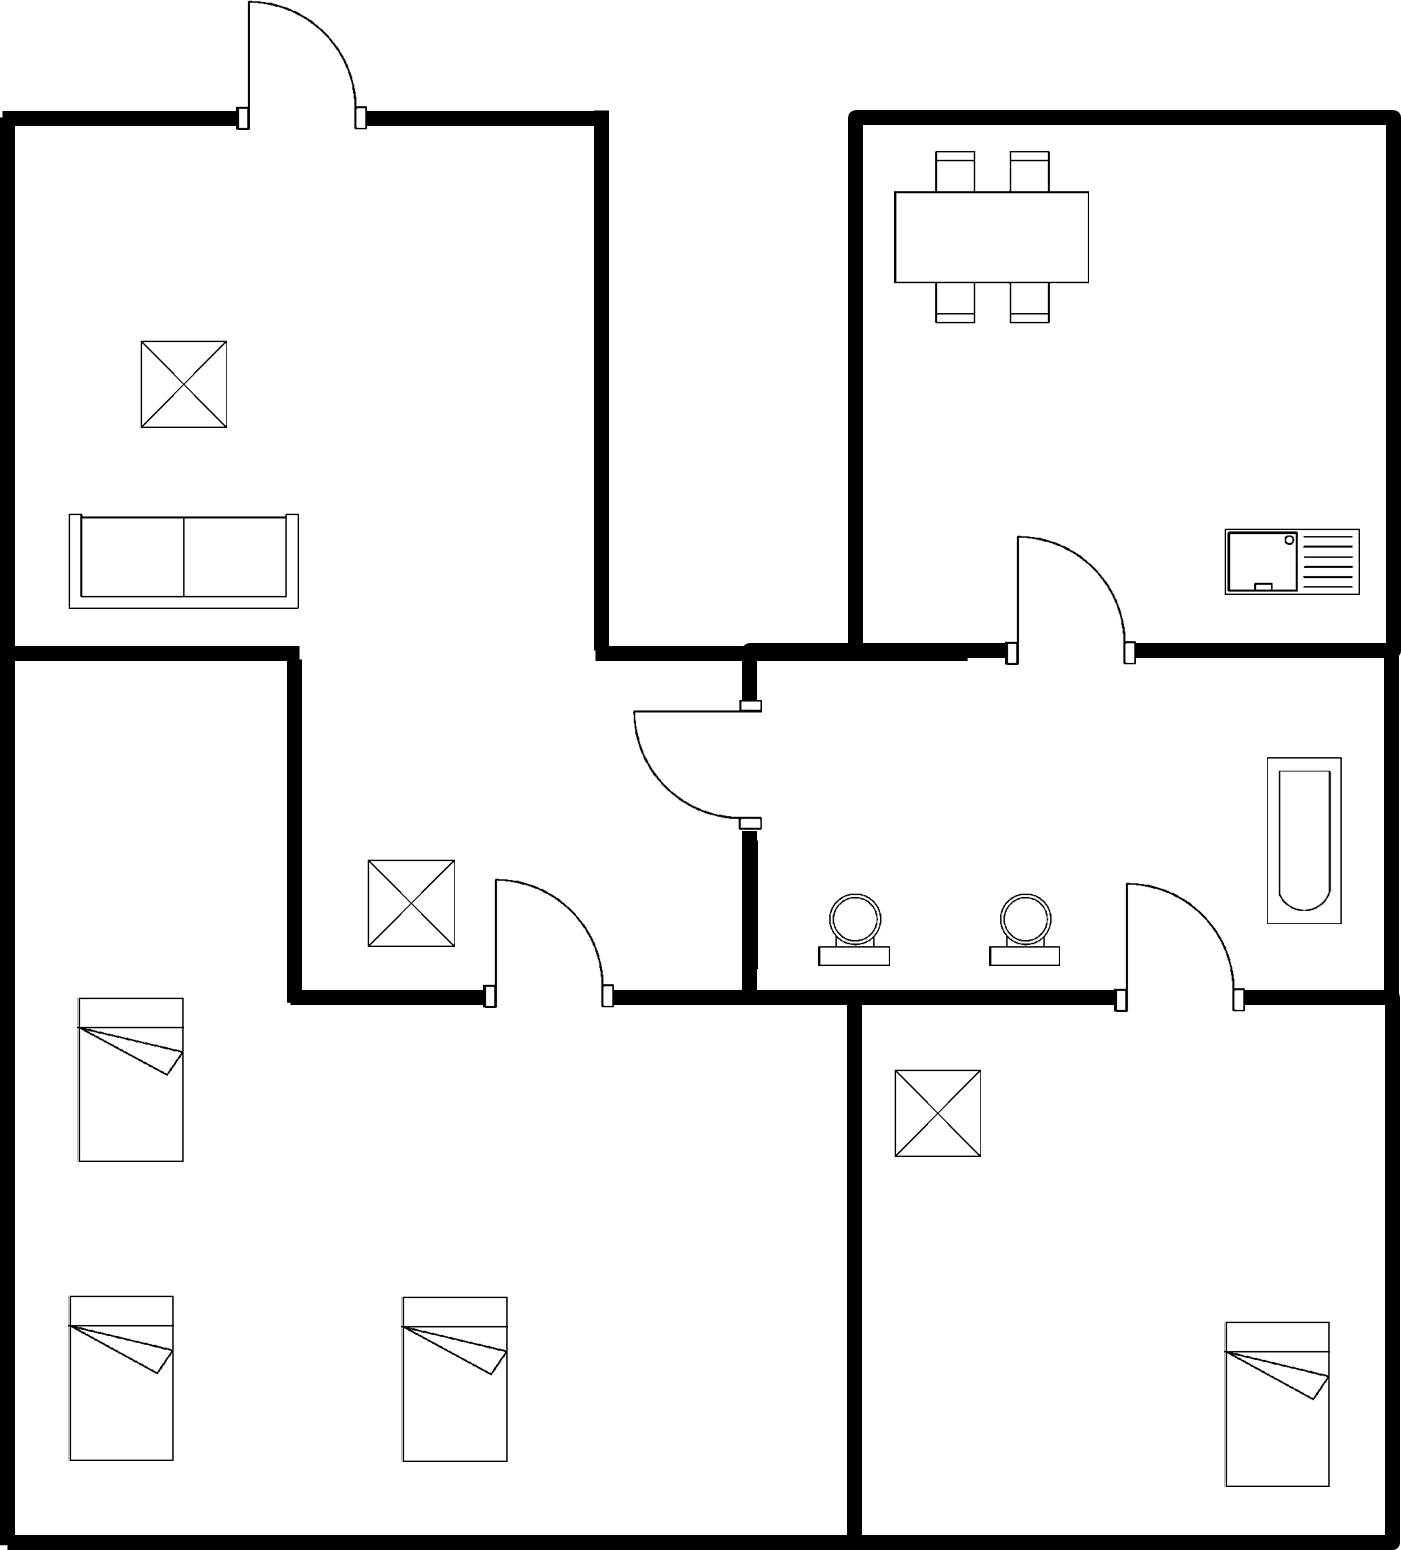bed: (63, 990, 197, 1179), (391, 1282, 519, 1478), (59, 1281, 186, 1475), (1212, 1304, 1339, 1498)
coffee_table: (121, 325, 239, 443), (359, 846, 474, 963), (882, 1061, 994, 1172)
dining_table: (878, 141, 1098, 337)
large_sink: (800, 882, 909, 978), (974, 878, 1072, 976)
large_sofa: (53, 498, 309, 623)
sink: (1210, 522, 1369, 614)
tub: (1250, 741, 1354, 938)
